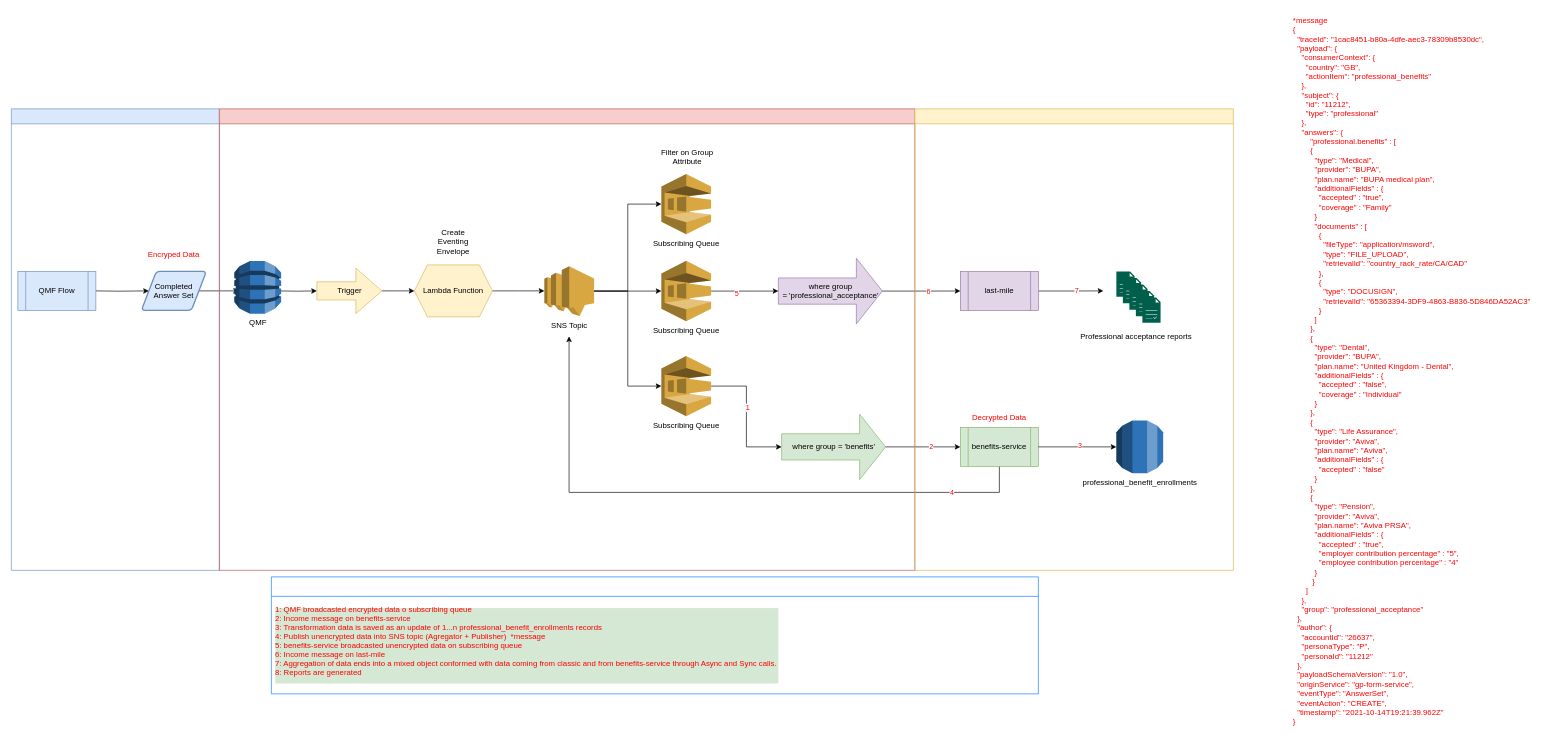
This 1557x738 diagram has some shape labels left out. Each missing label, with the box of its shape:
AWS: (219, 108, 915, 570)
Consuming Service: (914, 108, 1233, 570)
Producing Service: (11, 108, 219, 570)
Reference:: (271, 576, 1038, 694)
